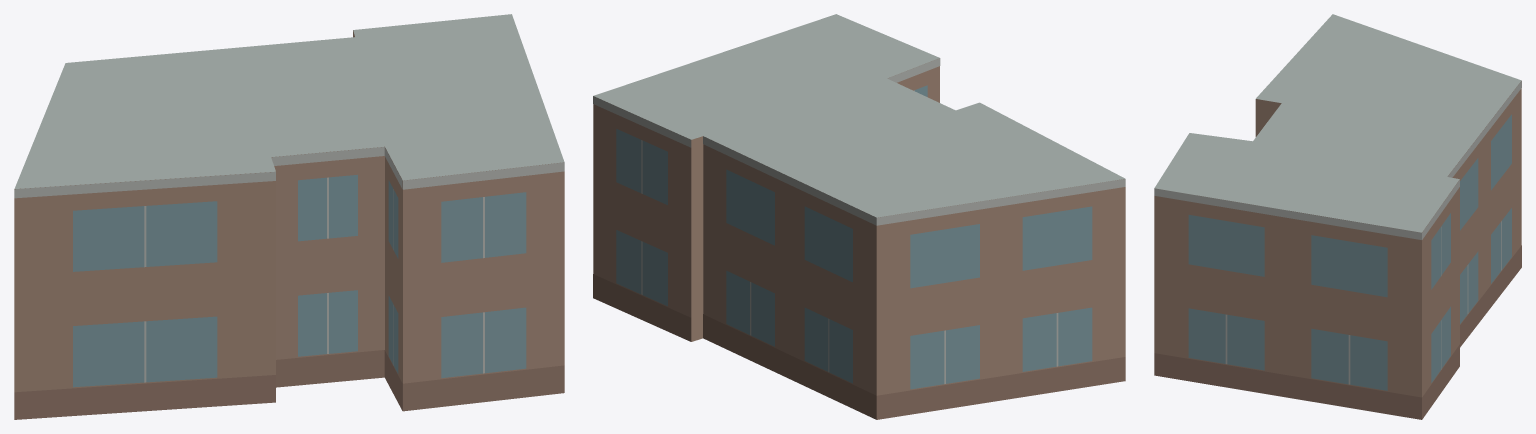
Rendered from survey-upis-32733202.glb.
3 views of the same model, side by side, from view 1: azimuth 30°, elevation 25°; view 2: azimuth 150°, elevation 25°; view 3: azimuth 270°, elevation 25° (orthographic). The views are drawn at different scales.
Visible parts, largest first — view 1: survey-upis-32733202.tmp; view 2: survey-upis-32733202.tmp; view 3: survey-upis-32733202.tmp.
Boxes of the visible parts, bbox=[...] form: survey-upis-32733202.tmp: bbox=[14, 14, 564, 419]; survey-upis-32733202.tmp: bbox=[593, 14, 1125, 419]; survey-upis-32733202.tmp: bbox=[1154, 14, 1521, 419].
Size of the model in its own units: 15.3 by 6.1 by 10.87.
